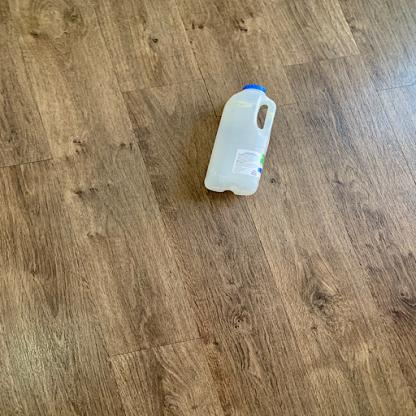trash: (198, 82, 283, 199)
